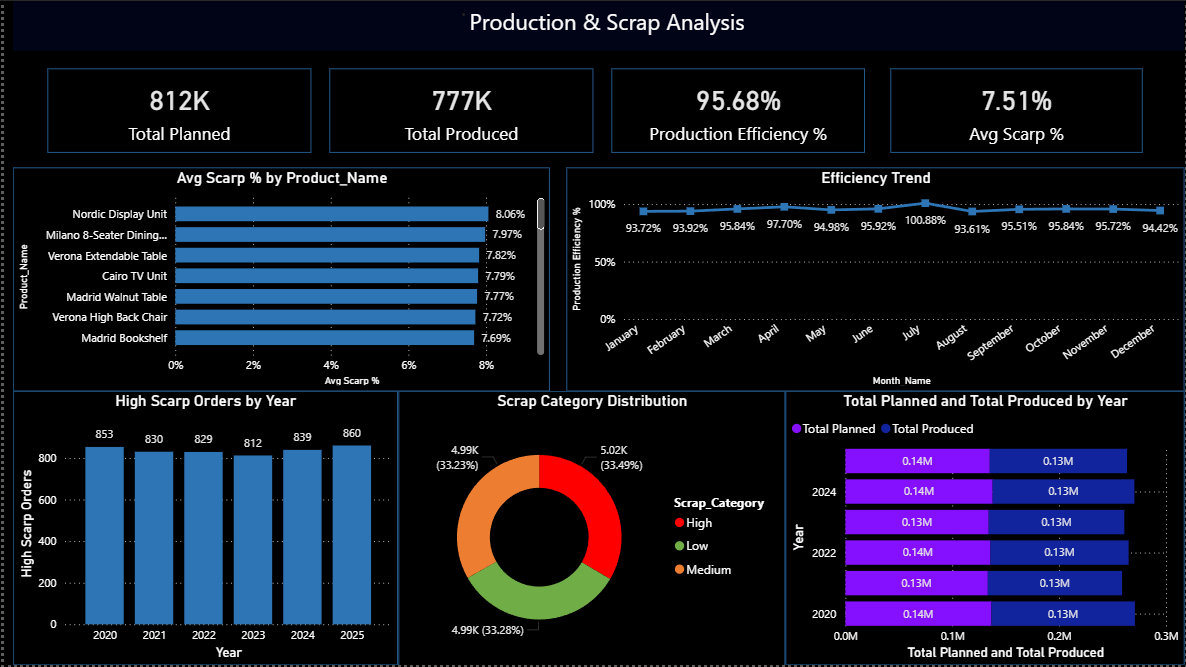

The page's visual inventory and layout, read from the dashboard file:
{"tool":"powerbi","page":{"name":"Production & Scrap Analysis","canvas":[1280,720],"ordinal":2},"visuals":[{"type":"textbox","box":[9.8,0,1270.3,53.7],"z":0},{"type":"card","fields":{"Values":["Fact_Production.Total Planned"]},"box":[47.2,73.2,286.3,91.1],"z":1000},{"type":"card","fields":{"Values":["Fact_Production.Total Produced"]},"box":[353,73.2,286.3,91.1],"z":2000},{"type":"card","fields":{"Values":["Fact_Production.Production Efficiency %"]},"box":[658.8,73.2,274.9,91.1],"z":3000},{"type":"card","fields":{"Values":["Fact_Production.Avg Scarp %"]},"box":[961.3,73.2,273.3,91.1],"z":4000},{"type":"lineChart","title":" Efficiency Trend","fields":{"Y":["Fact_Production.Production Efficiency %"],"Category":["Dim_Date.Month_Name"]},"box":[610,180.5,670.1,242.4],"z":5000},{"type":"barChart","fields":{"Category":["Dim_Products.Product_Name"],"Y":["Fact_Production.Avg Scarp %"]},"box":[9.8,180.5,582.3,242.4],"z":6000},{"type":"barChart","fields":{"Category":["Dim_Date.Year"],"Y":["Fact_Production.Total Planned","Fact_Production.Total Produced"]},"box":[847.4,422.9,432.7,297.7],"z":7000},{"type":"donutChart","title":"Scrap Category Distribution","fields":{"Category":["Fact_Production.Scrap_Category"],"Y":["CountNonNull(Fact_Production.Production_Order_ID)"]},"box":[427.3,423.3,419.2,297.7],"z":8000},{"type":"columnChart","fields":{"Category":["Dim_Date.Year"],"Y":["Fact_Production.High Scarp Orders"]},"box":[10,423,417,297],"z":9000}]}

Visuals, with their boxes in screenshot pixels (x1, y1, x2, y2), scaled from the page's 1280x720 canvas onto the 1186x667 screenshot:
textbox: locate(9, 0, 1185, 50)
card - Fact_Production.Total Planned: locate(44, 68, 309, 152)
card - Fact_Production.Total Produced: locate(327, 68, 592, 152)
card - Fact_Production.Production Efficiency %: locate(610, 68, 865, 152)
card - Fact_Production.Avg Scarp %: locate(891, 68, 1144, 152)
" Efficiency Trend" lineChart: locate(565, 167, 1185, 392)
barChart - Dim_Products.Product_Name x Fact_Production.Avg Scarp %: locate(9, 167, 549, 392)
barChart - Dim_Date.Year x Fact_Production.Total Planned: locate(785, 392, 1185, 666)
"Scrap Category Distribution" donutChart: locate(396, 392, 784, 666)
columnChart - Dim_Date.Year x Fact_Production.High Scarp Orders: locate(9, 392, 396, 666)
